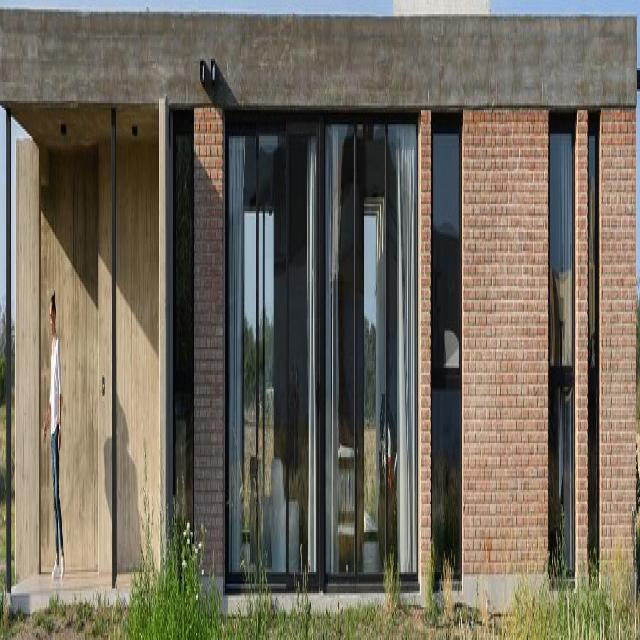door: (224, 117, 418, 580)
wall: (0, 5, 637, 614)
windows: (432, 118, 461, 582), (548, 123, 574, 569), (172, 115, 195, 532), (588, 116, 599, 576)
